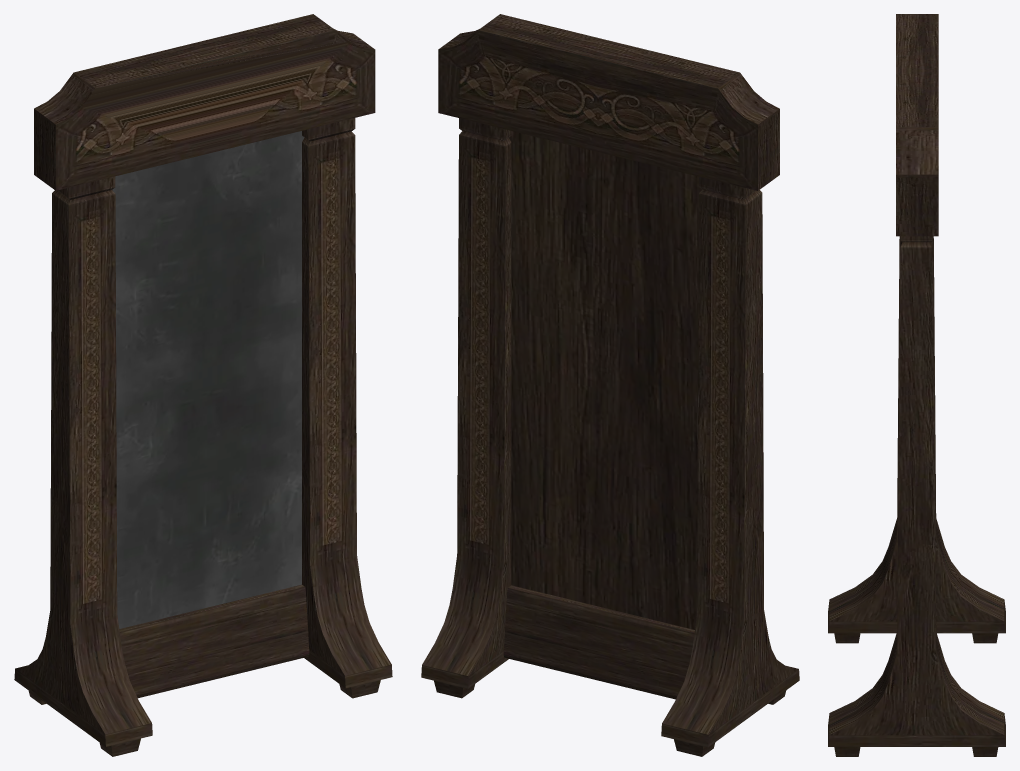
Rendered from eso_gu3_woodfurniture11-transformed.glb.
The picture shows the model from 3 angles, left to right: view 1: azimuth 30°, elevation 25°; view 2: azimuth 150°, elevation 25°; view 3: azimuth 270°, elevation 25°; orthographic projection. The views are drawn at different scales.
Visible parts, largest first — view 1: default; view 2: default; view 3: default.
Boxes of the visible parts, bbox=[...] form: default: bbox=[14, 14, 392, 756]; default: bbox=[421, 14, 799, 756]; default: bbox=[828, 14, 1005, 756].
Size of the model in its own units: 1.22 by 2.34 by 0.605.
Materials: 1 (1 with a texture image).
